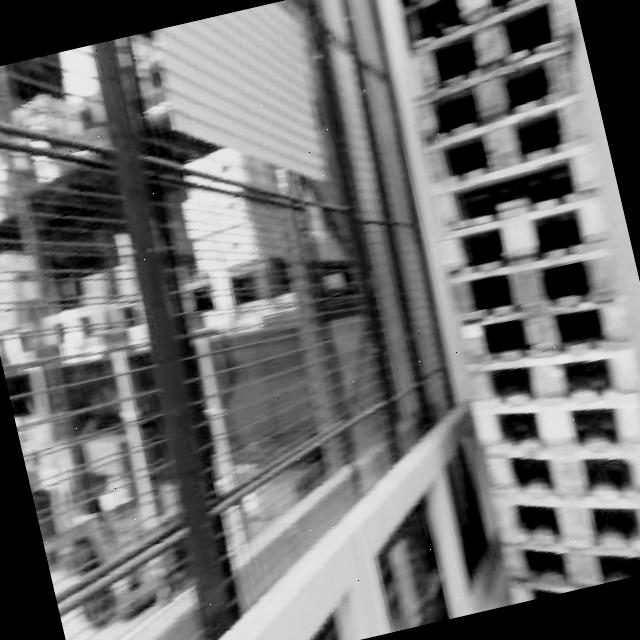pallet: (368, 0, 640, 604), (0, 45, 216, 634)
